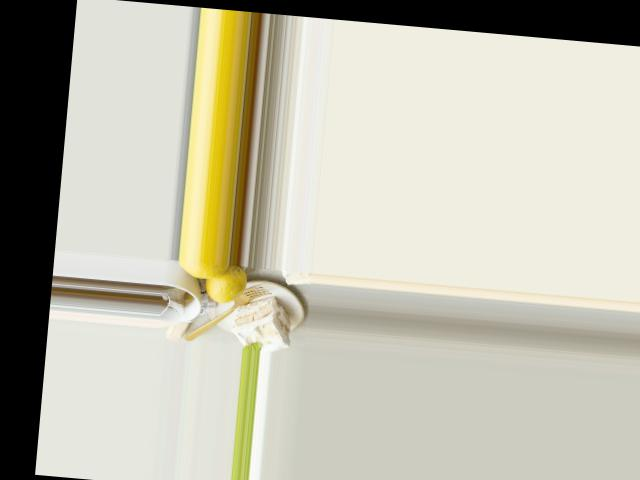lemon: (175, 259, 230, 281)
